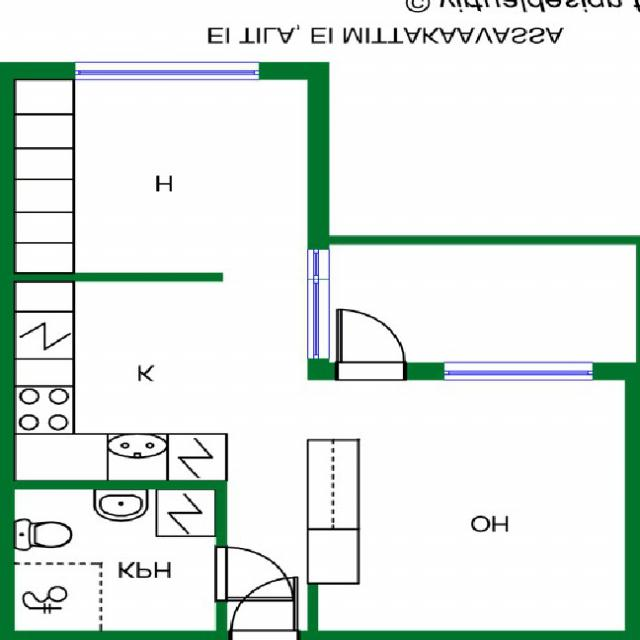door: (338, 307, 406, 379), (231, 575, 299, 640), (217, 546, 294, 600)
